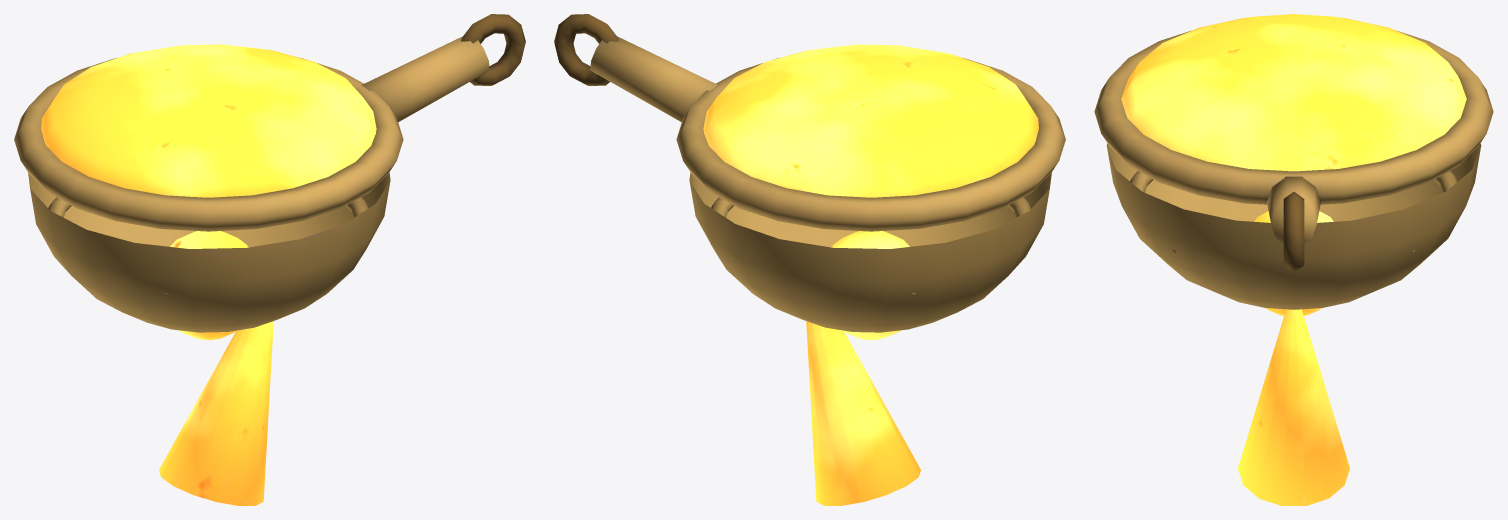
File: CrucibleLadle.glb
The picture shows the model from 3 angles, left to right: view 1: azimuth 30°, elevation 25°; view 2: azimuth 150°, elevation 25°; view 3: azimuth 270°, elevation 25°; orthographic projection. The views are drawn at different scales.
Visible parts, largest first — view 1: CrucibleLadle; view 2: CrucibleLadle; view 3: CrucibleLadle.
Part boxes in pixels (x1,y1,x2,y2): CrucibleLadle: (14,14,525,505); CrucibleLadle: (554,14,1065,505); CrucibleLadle: (1094,14,1493,505).
Bounding box in the file's own units: 0.8594 × 0.7115 × 0.5967.
1 material, 1 textured.
